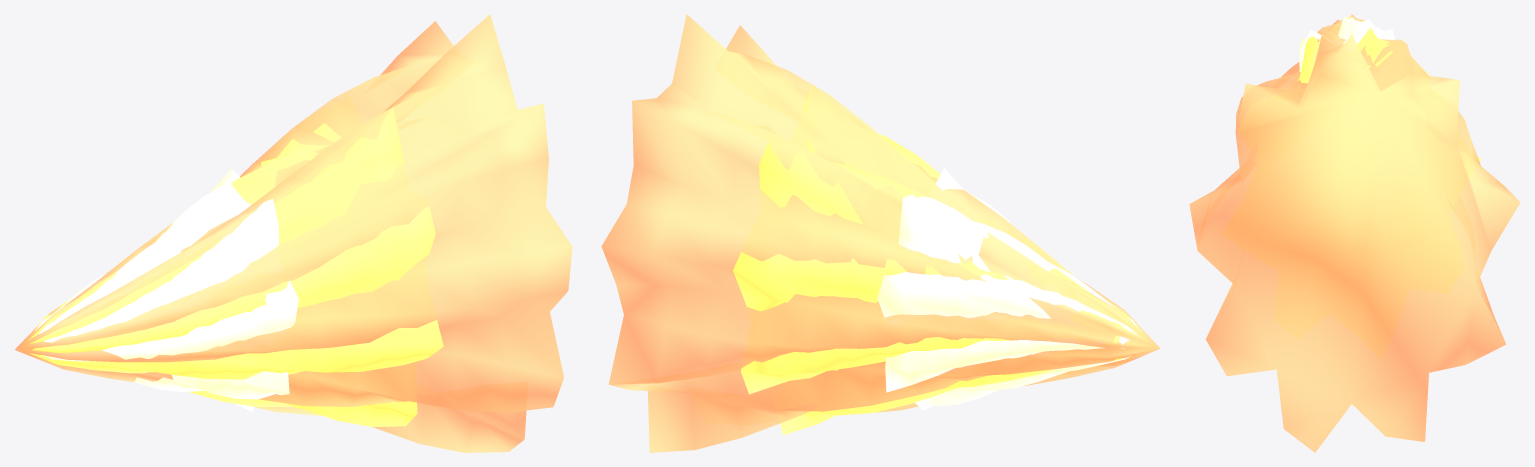
File: VFX_04_四娃_剪纸烈火舌喷射.glb
The picture shows the model from 3 angles, left to right: view 1: azimuth 30°, elevation 25°; view 2: azimuth 150°, elevation 25°; view 3: azimuth 270°, elevation 25°; orthographic projection.
Parts seen in each view (by area): view 1: FireCone_0, FireCone_1, FireCone_2; view 2: FireCone_0, FireCone_1, FireCone_2; view 3: FireCone_0, FireCone_1, FireCone_2.
Boxes of the visible parts, x1=… form: FireCone_0: x1=15, y1=14, x2=572, y2=452; FireCone_1: x1=28, y1=107, x2=443, y2=426; FireCone_2: x1=36, y1=168, x2=298, y2=411; FireCone_0: x1=601, y1=14, x2=1159, y2=452; FireCone_1: x1=733, y1=85, x2=1140, y2=435; FireCone_2: x1=877, y1=168, x2=1138, y2=410; FireCone_0: x1=1189, y1=14, x2=1520, y2=452; FireCone_1: x1=1296, y1=16, x2=1480, y2=162; FireCone_2: x1=1299, y1=17, x2=1394, y2=71.
Bounding box in the file's own units: 3.4 × 2.9 × 2.08.
